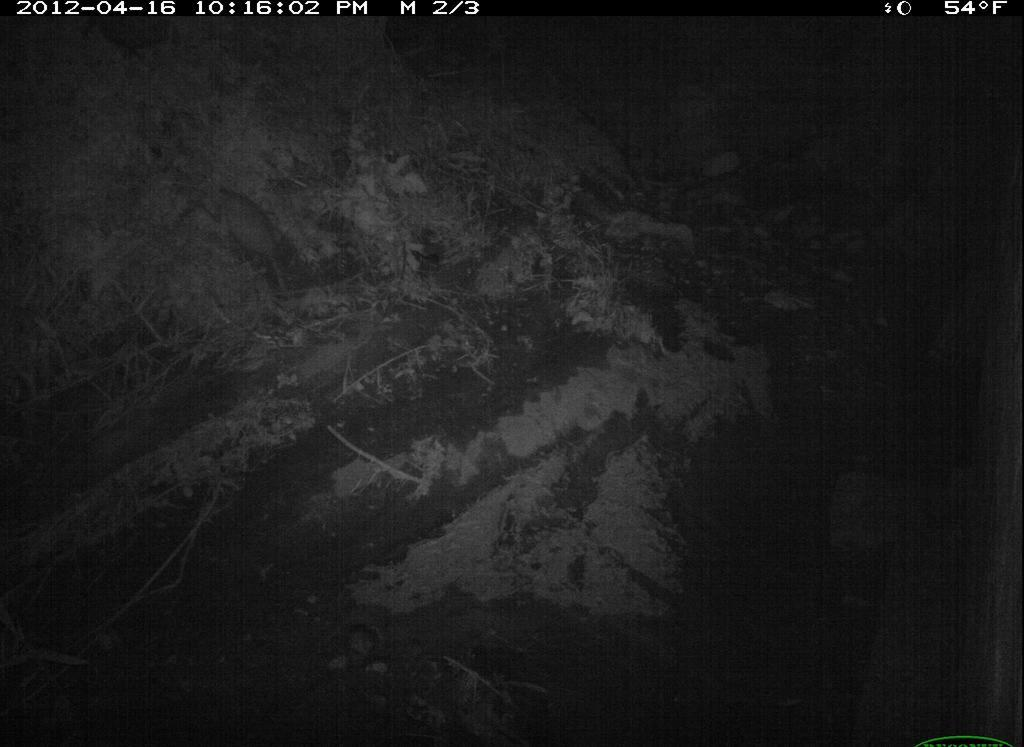opossum: (196, 173, 310, 306)
